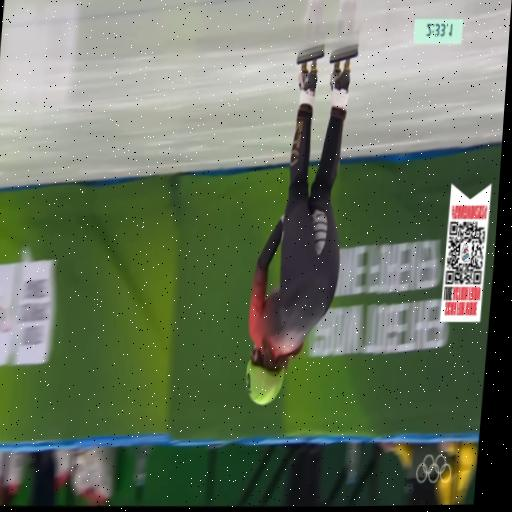Skater: (247, 47, 357, 404)
